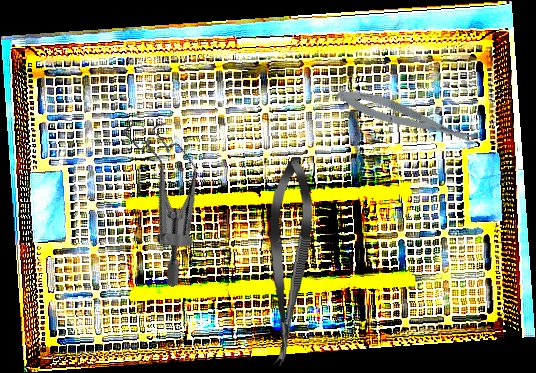Micro Scissor: (259, 155, 317, 368), (333, 80, 484, 157)
Speculum: (74, 101, 248, 290)
